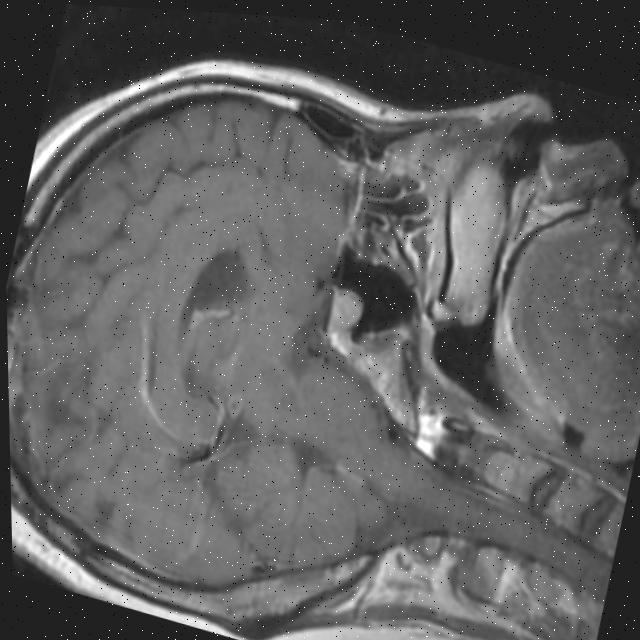Pituitary: (320, 281, 369, 338)
